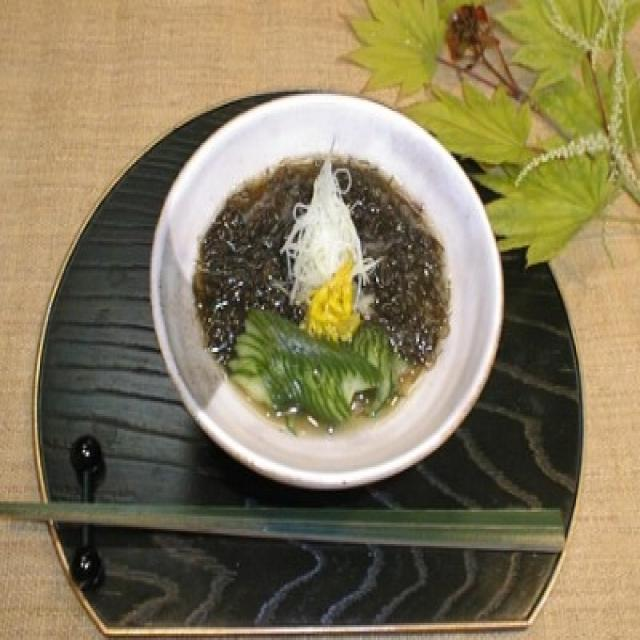蔬菜料理: (141, 64, 501, 493)
